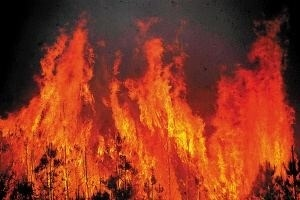fire: (6, 21, 282, 193)
